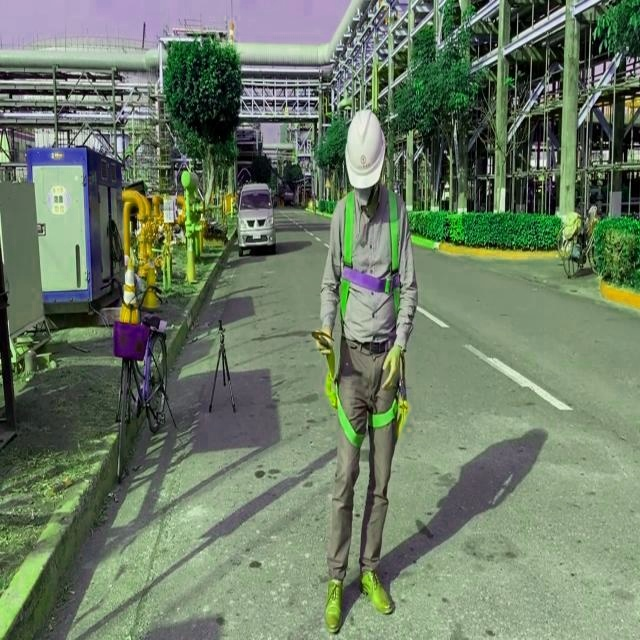safety belt: (326, 198, 429, 453)
